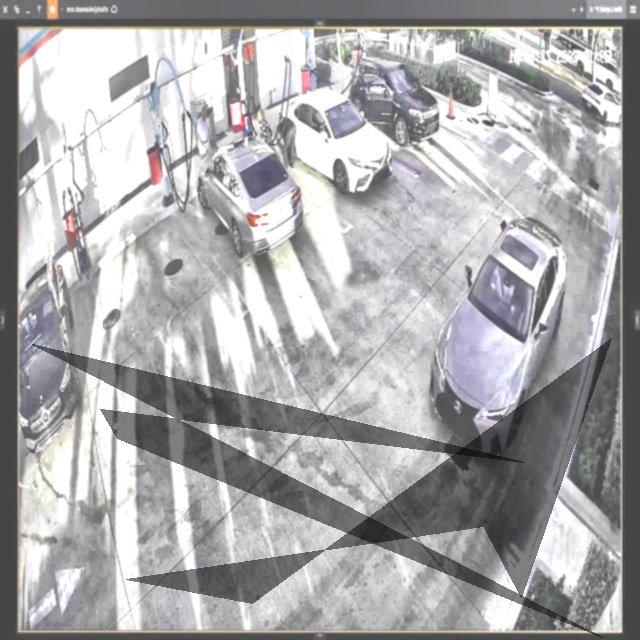Car: (429, 218, 564, 460), (198, 140, 302, 255), (276, 88, 388, 192), (348, 58, 439, 146)
